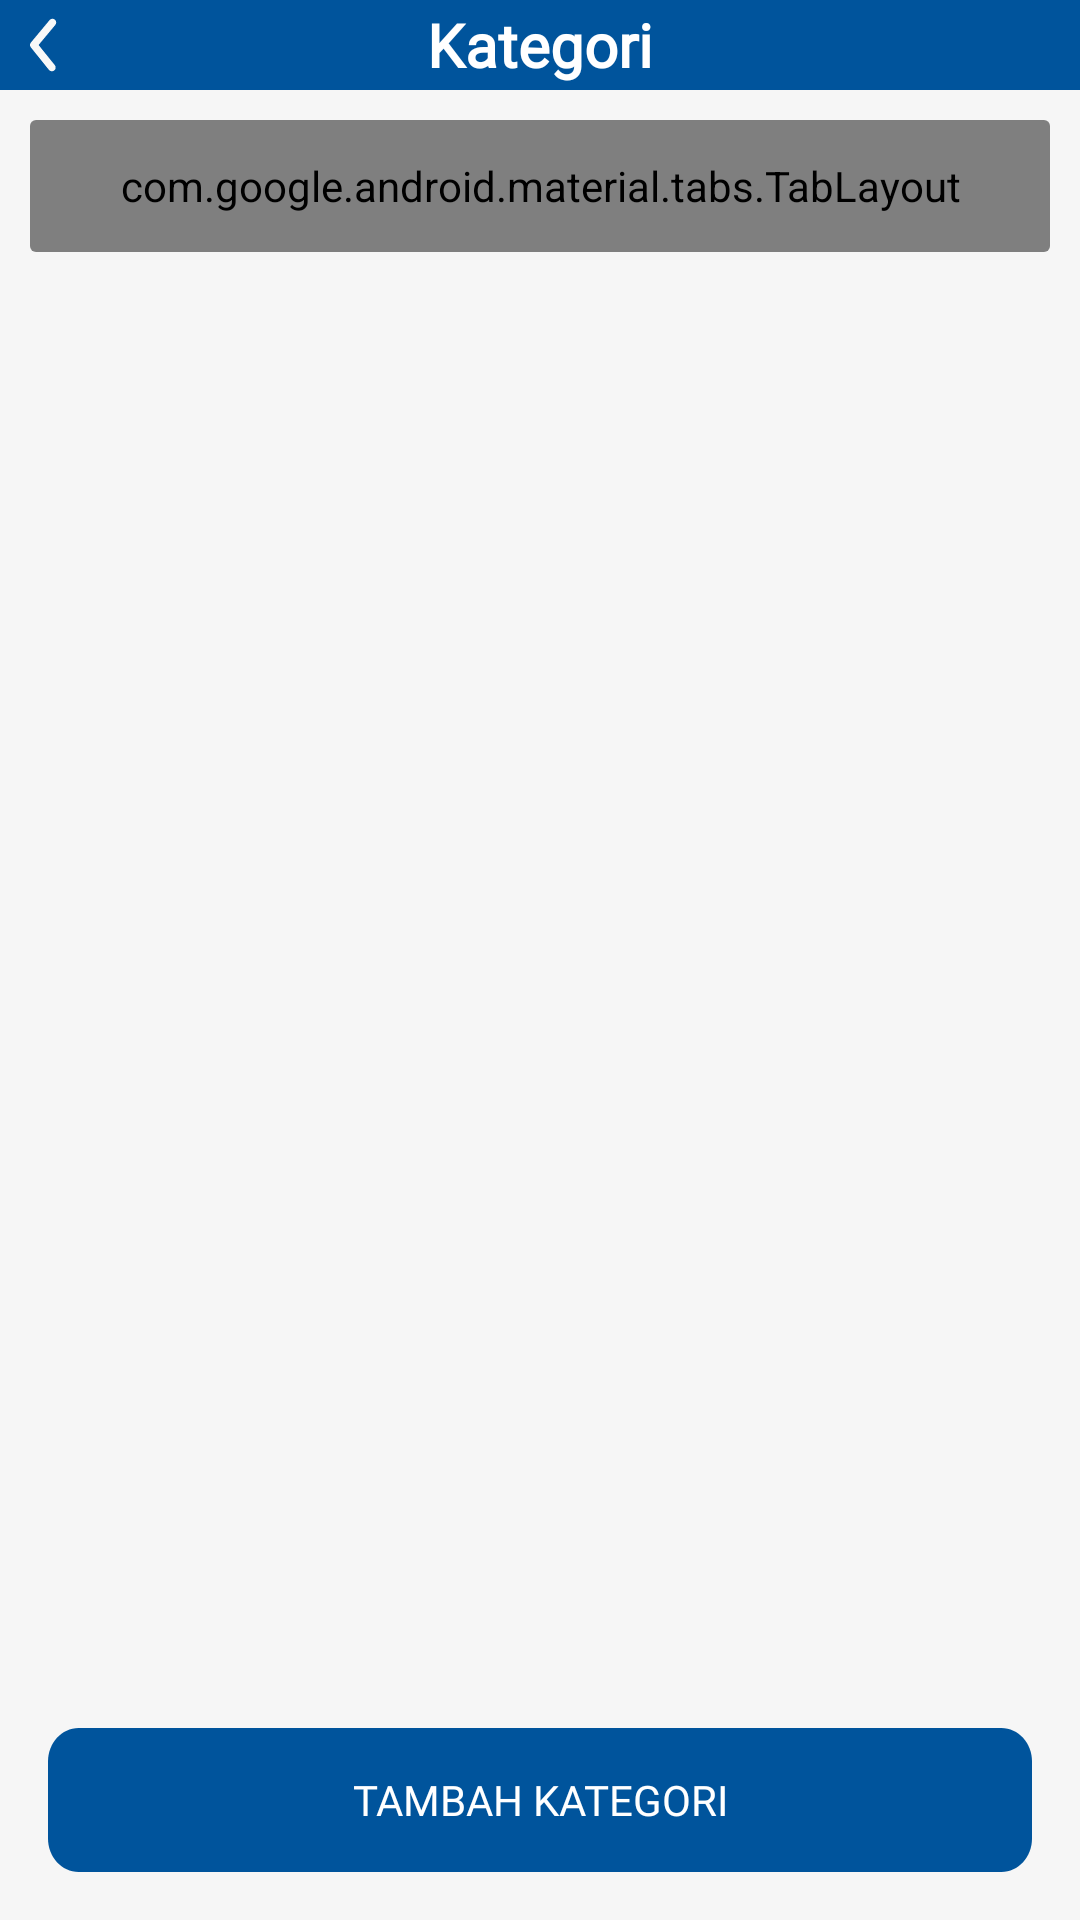

Icon bounding boxes for this 1080×1920 phone screenshot, format {"left": x1, "top": y1, "right": x2, "bottom": y2}:
back arrow: {"left": 30, "top": 18, "right": 57, "bottom": 72}
